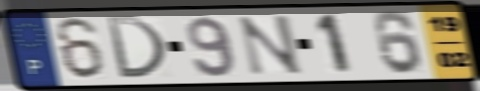1: (314, 12, 354, 76)
6: (371, 9, 425, 77), (54, 15, 108, 82)
9: (184, 14, 239, 79)
D: (103, 15, 170, 81)
N: (235, 13, 307, 77)
